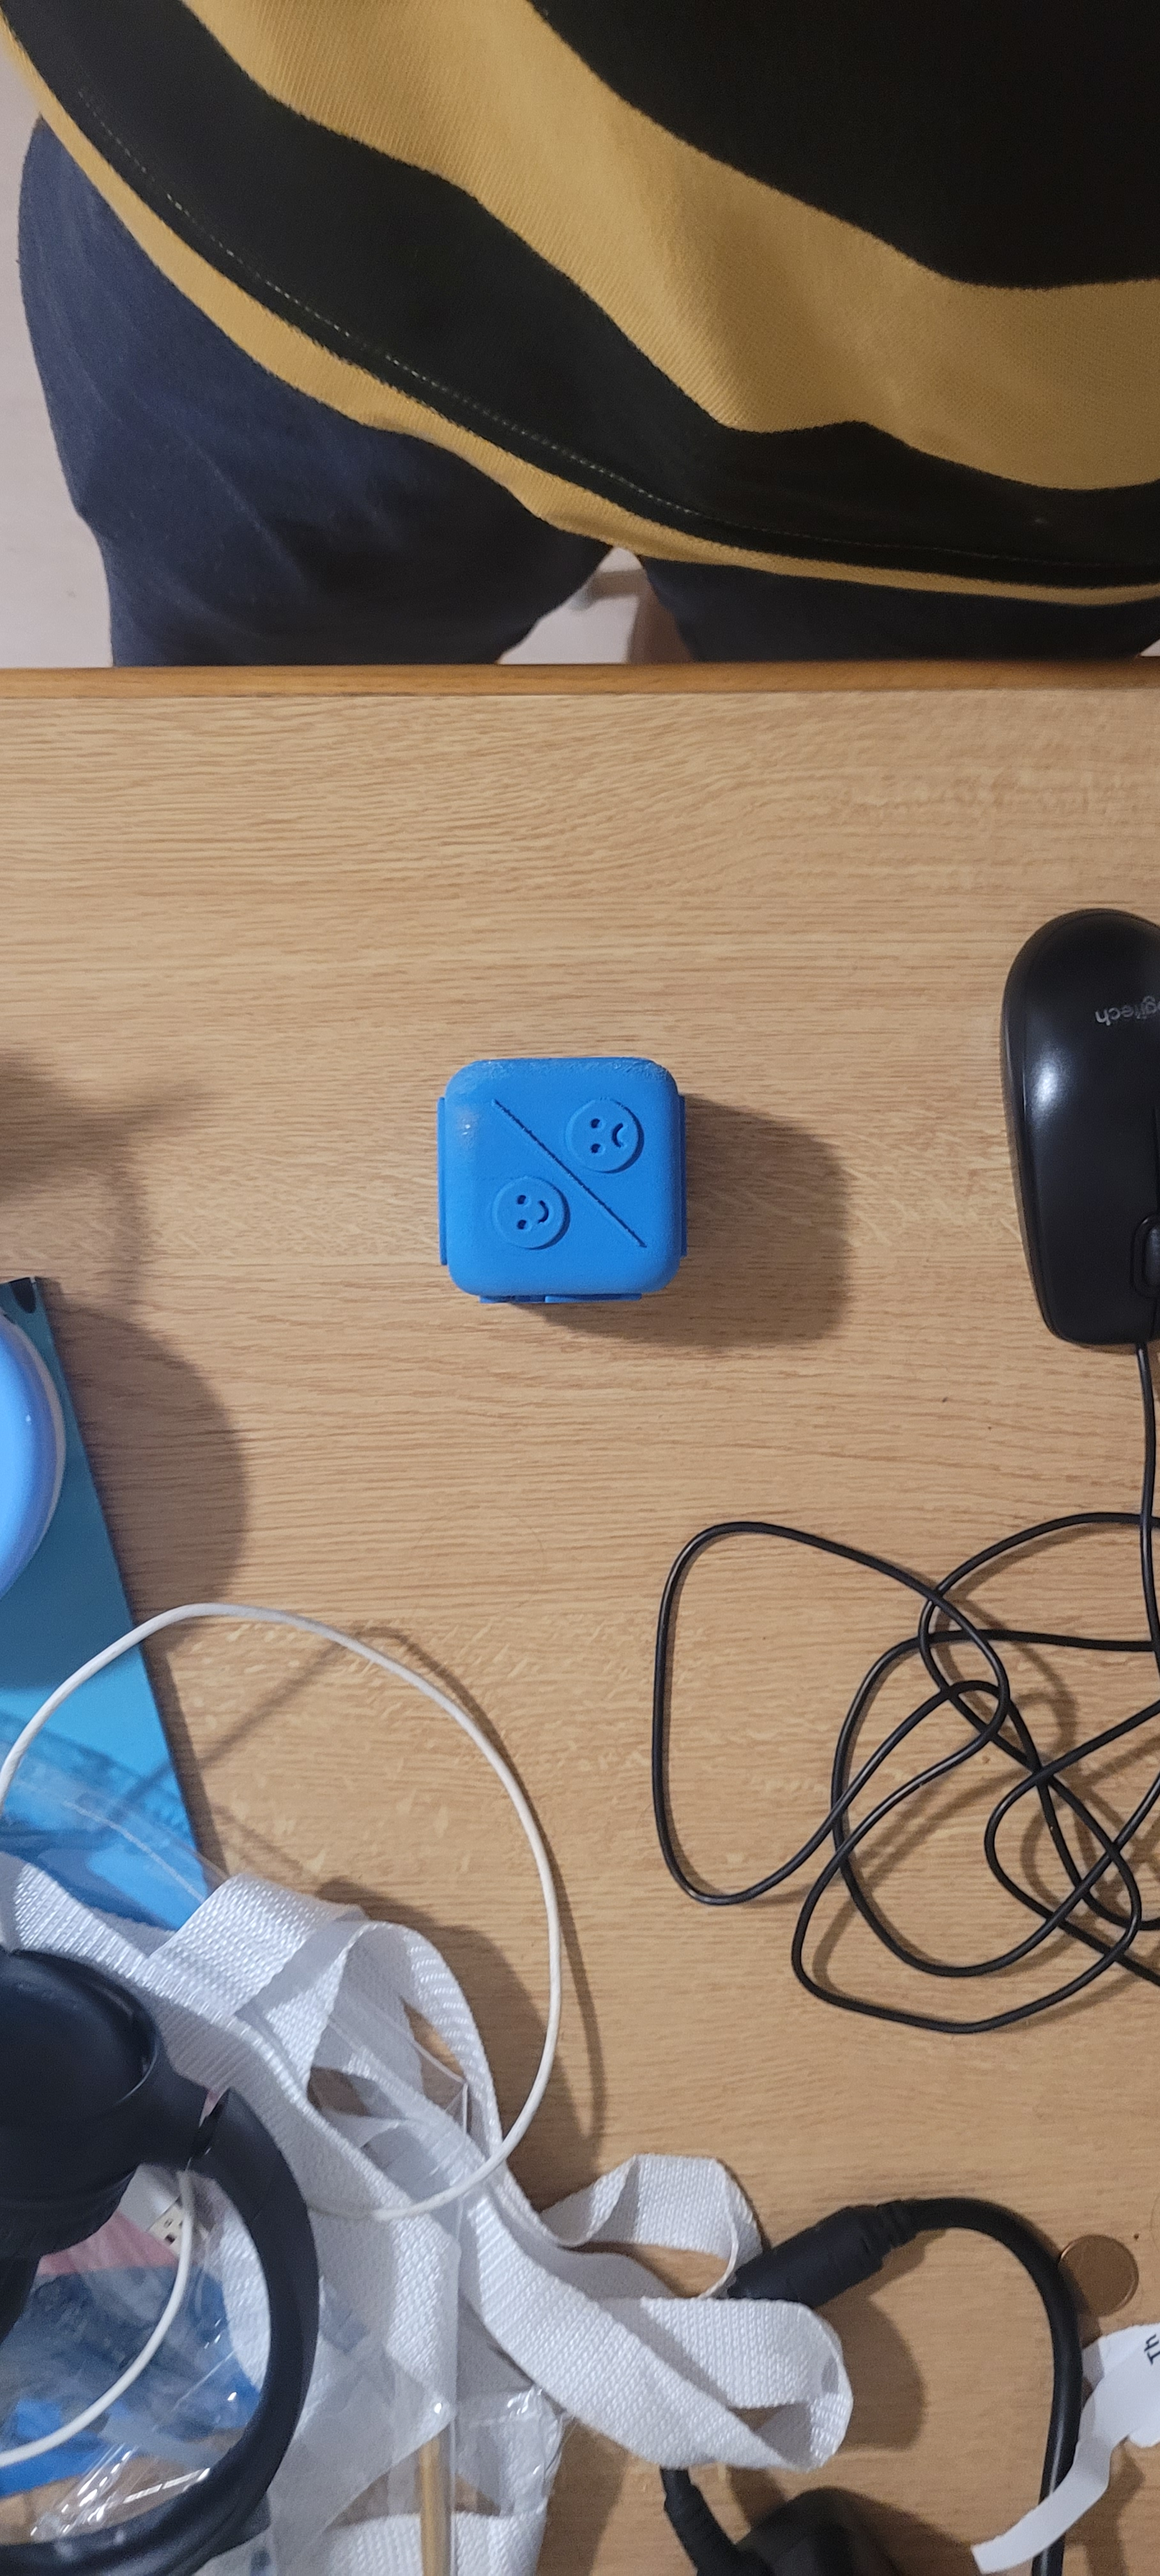Like/Dislike: (373, 1033, 787, 1308)
